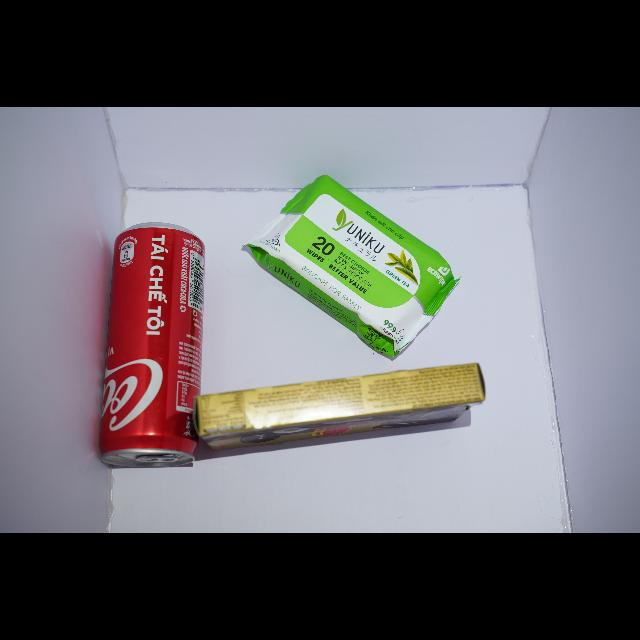banh_toppo_socola: (196, 364, 485, 450)
coca_cola: (100, 223, 205, 468)
khan_giay: (245, 175, 459, 357)
